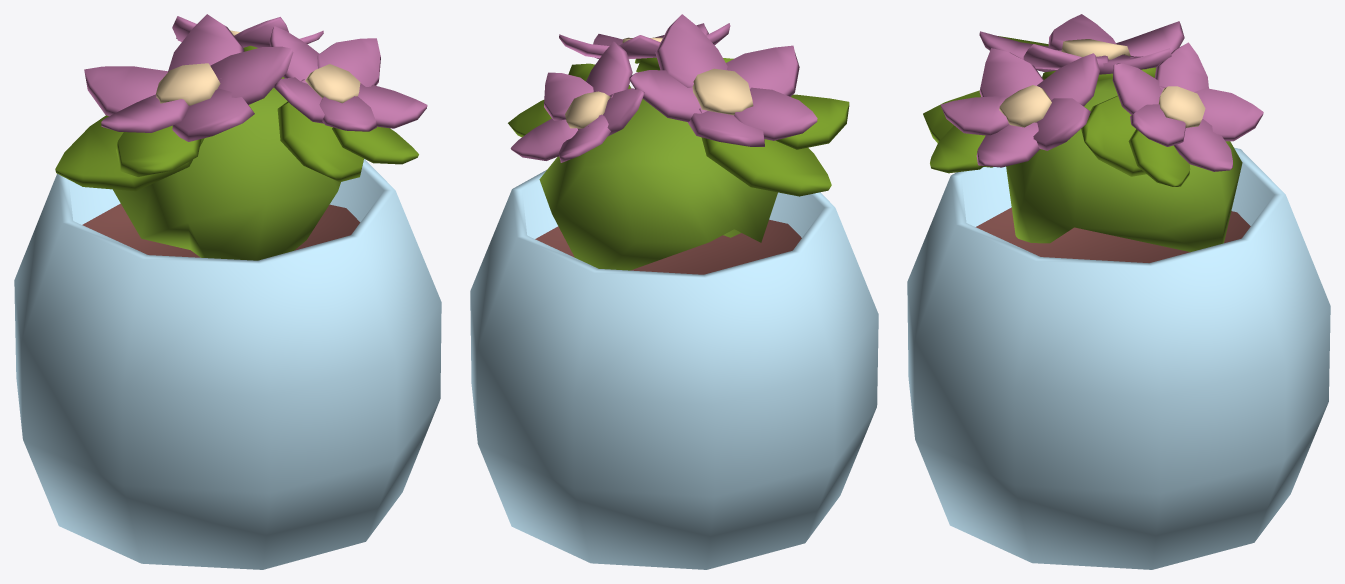
Rendered from flowerpot.fbx.
3 renders of one model, left to right at view 1: azimuth 30°, elevation 25°; view 2: azimuth 150°, elevation 25°; view 3: azimuth 270°, elevation 25°, orthographic. The views are drawn at different scales.
Parts seen in each view (by area): view 1: Cylinder.006; view 2: Cylinder.006; view 3: Cylinder.006.
Boxes of the visible parts, x1,y1,x2,y2 form: Cylinder.006: [14, 14, 441, 569]; Cylinder.006: [470, 14, 878, 569]; Cylinder.006: [907, 14, 1330, 569].
Bounding box in the file's own units: 36.25 × 43.82 × 35.99.
